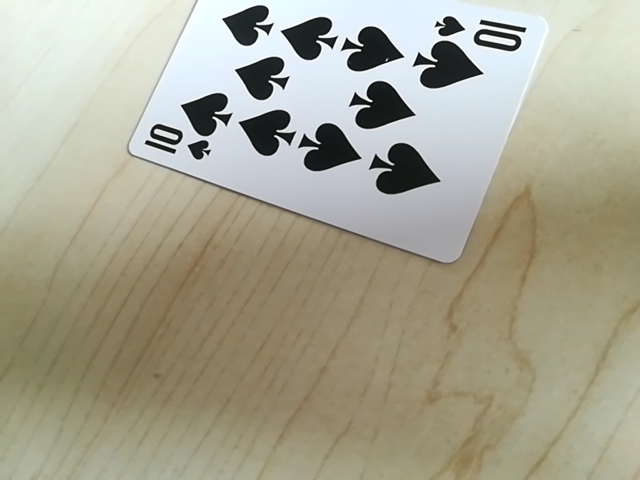ht 10: (429, 9, 536, 51), (137, 125, 218, 165)
